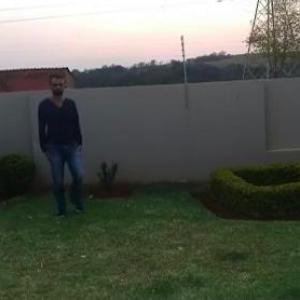follow: (40, 81, 92, 198)
